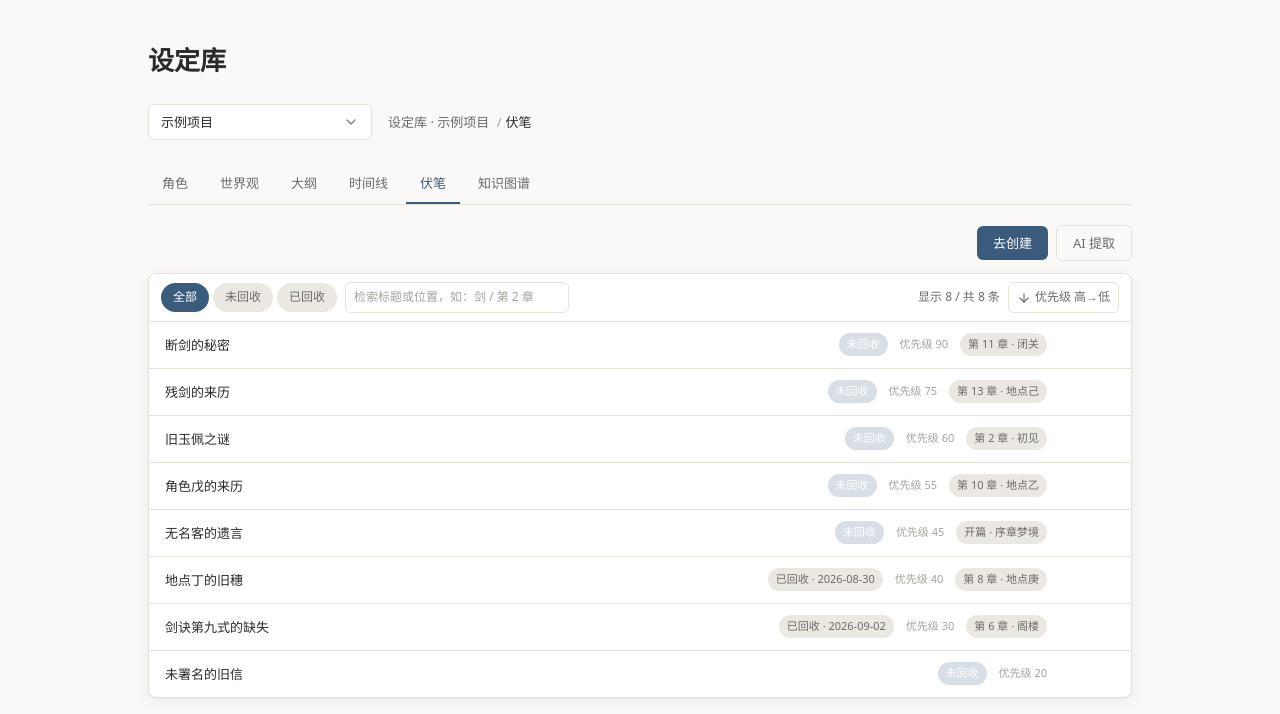
Test: #1376 检索（口径 1）：标题 OR 位置 文本子串 › 输入「地点」→ 请求带 search=地点；命中 = 标题 1 条 + 位置 3 条（并集 3），计数与列表同步
In the search field with test id "fs-search-input": (457,298) [345, 282, 569, 313], type "地点"
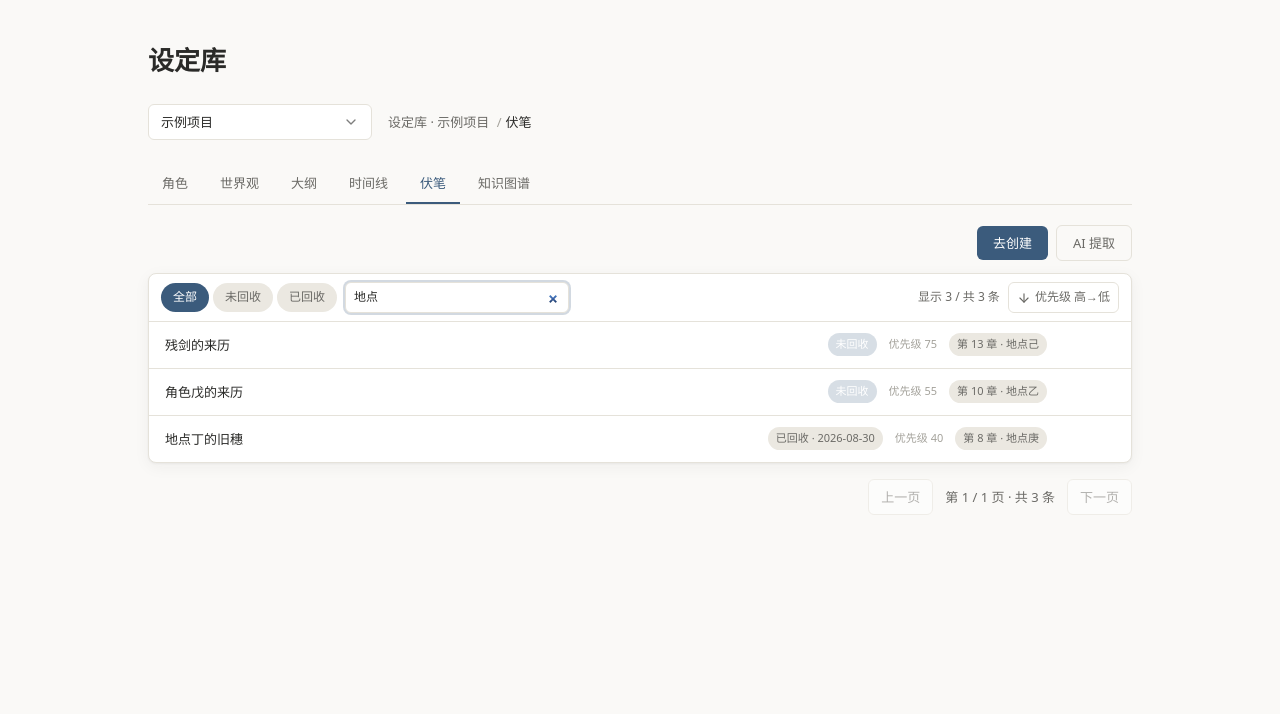
expect the element with test id "library-list" no longer shows "未署名的旧信": met, box [148, 273, 1132, 463]
expect the element with test id "library-list" no longer shows "无名客的遗言": met, box [148, 273, 1132, 463]
expect the text with test id "fs-count" reads "显示 3 / 共 3 条": met, box [918, 288, 1000, 305]
